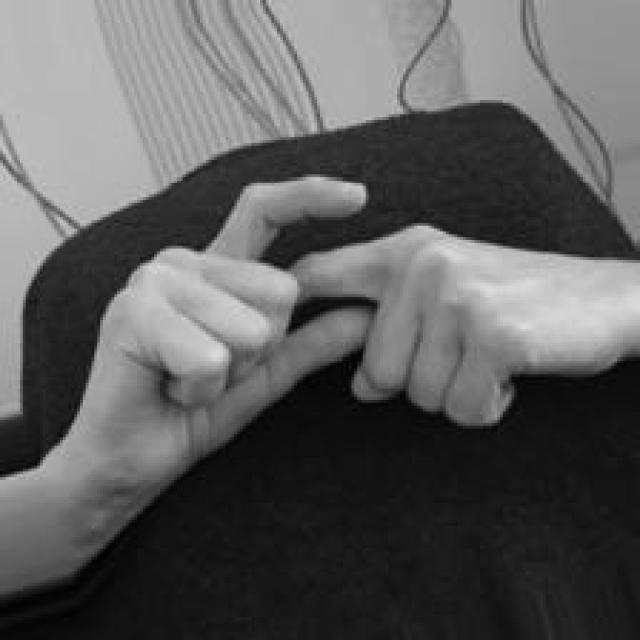G: (70, 176, 624, 573)
